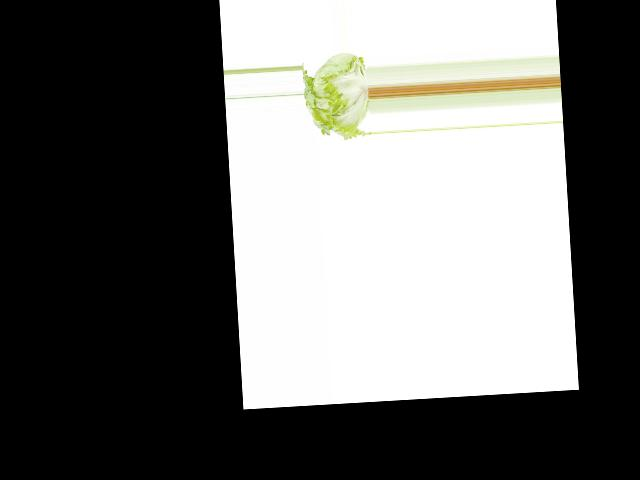lettuce: (302, 49, 372, 145)
